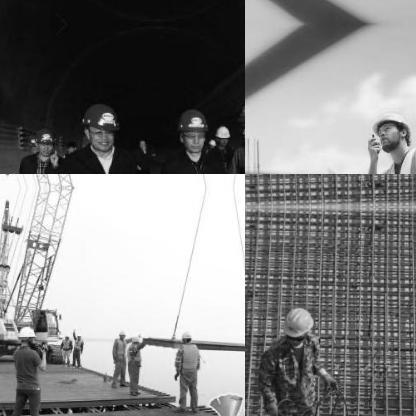Helmet: (370, 105, 410, 153), (84, 101, 118, 150), (176, 103, 208, 155), (282, 304, 316, 344), (31, 126, 54, 154), (17, 321, 38, 345), (235, 90, 244, 145), (214, 121, 232, 145), (178, 329, 192, 343), (112, 325, 126, 339), (127, 332, 141, 346)
